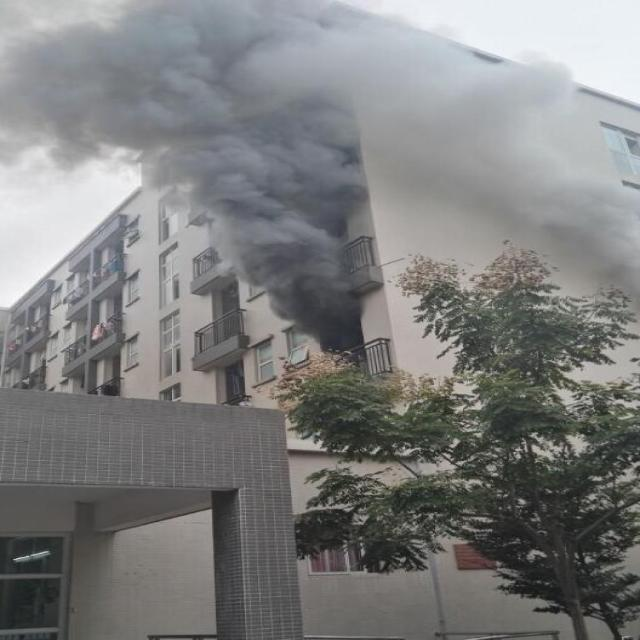Smoke: (1, 1, 640, 357)
